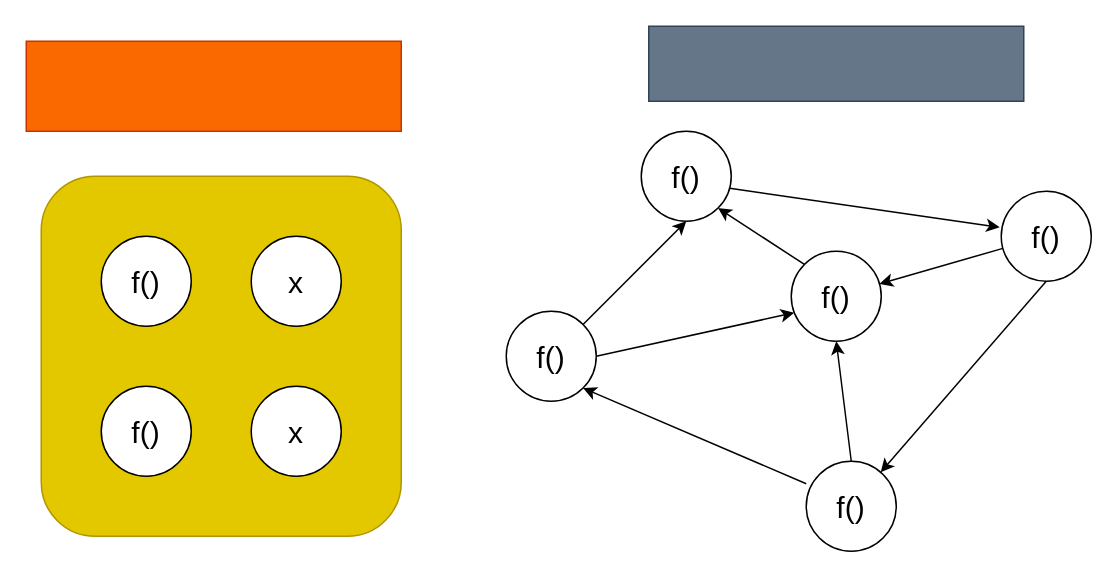
Image size: 1118x578. Some labels were removed from this diagram. Each missing label, with the box of its shape:
AS PROGRAM GROWS: (647, 25, 1024, 101)
PROCEDURAL PROGRAMMING: (25, 40, 401, 131)
